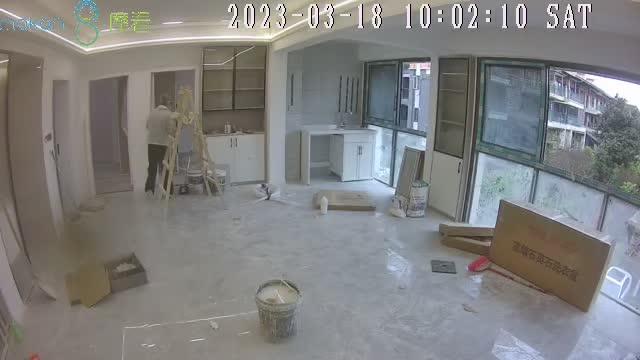people: (145, 93, 174, 199)
window: (466, 57, 640, 311), (359, 62, 432, 190)
